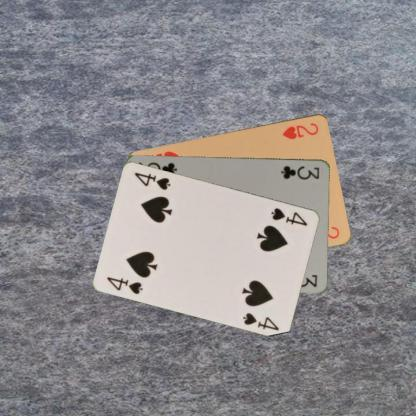2h: (280, 120, 320, 140)
3c: (278, 163, 321, 181)
4s: (268, 205, 309, 227), (104, 274, 144, 296)
